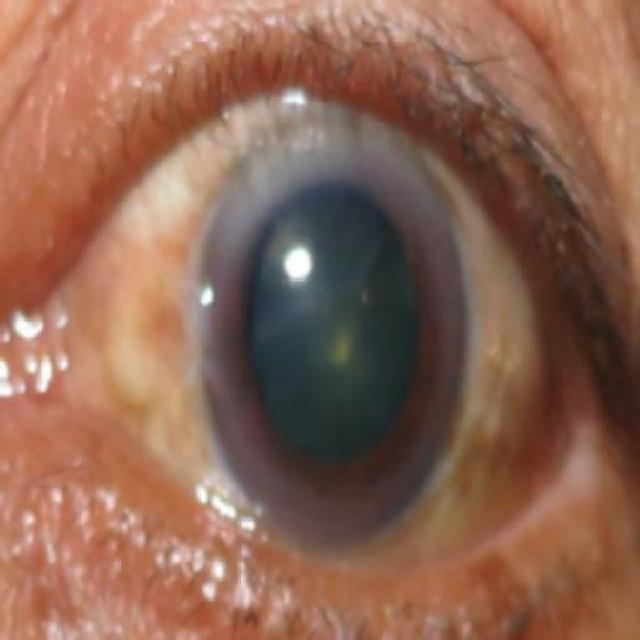Cataract: (188, 125, 470, 554)
